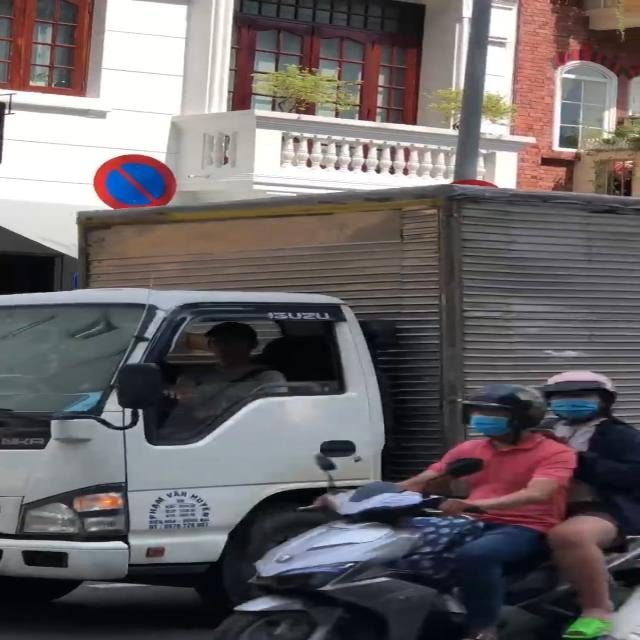Bien bao cam do xe: (92, 148, 185, 210)
